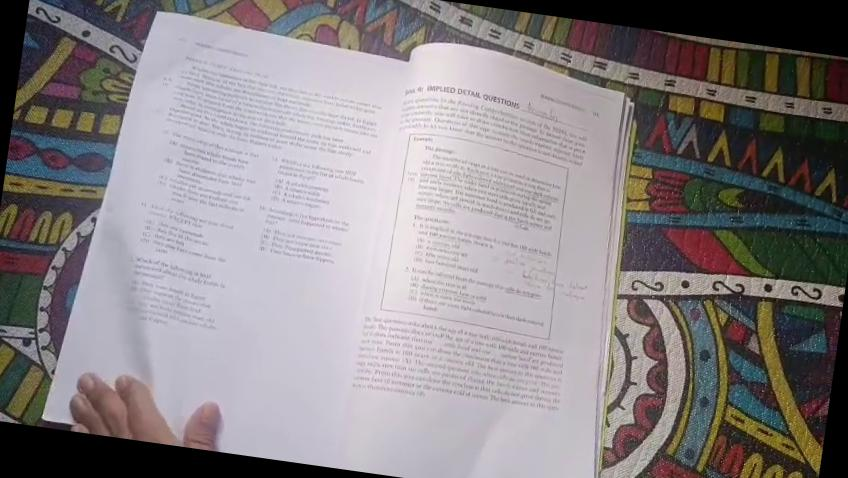Kertas: (106, 25, 484, 418), (344, 68, 636, 478)
